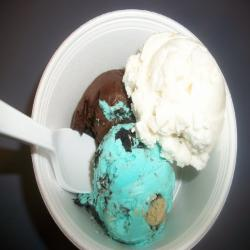icecream: (116, 26, 234, 176), (73, 123, 198, 245), (64, 66, 151, 152)
